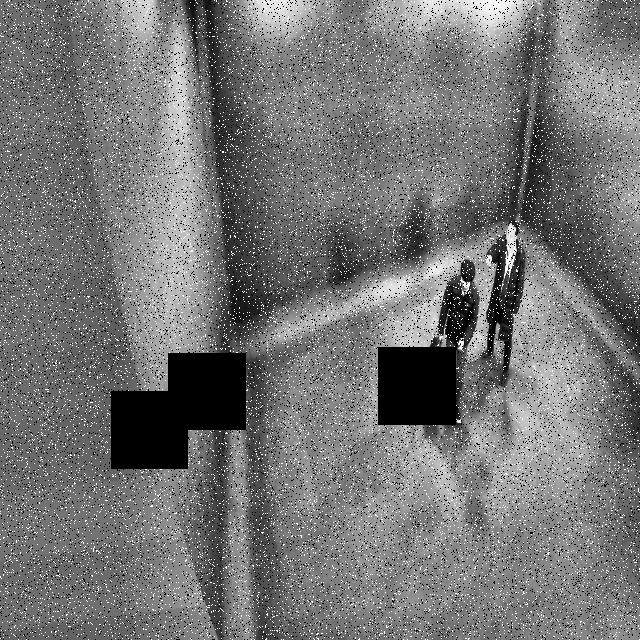assult: (408, 202, 538, 444)
